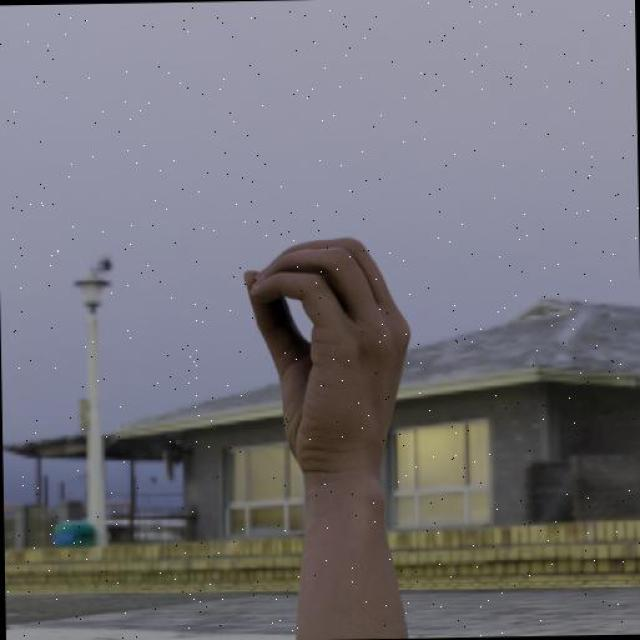O: (240, 233, 416, 492)
